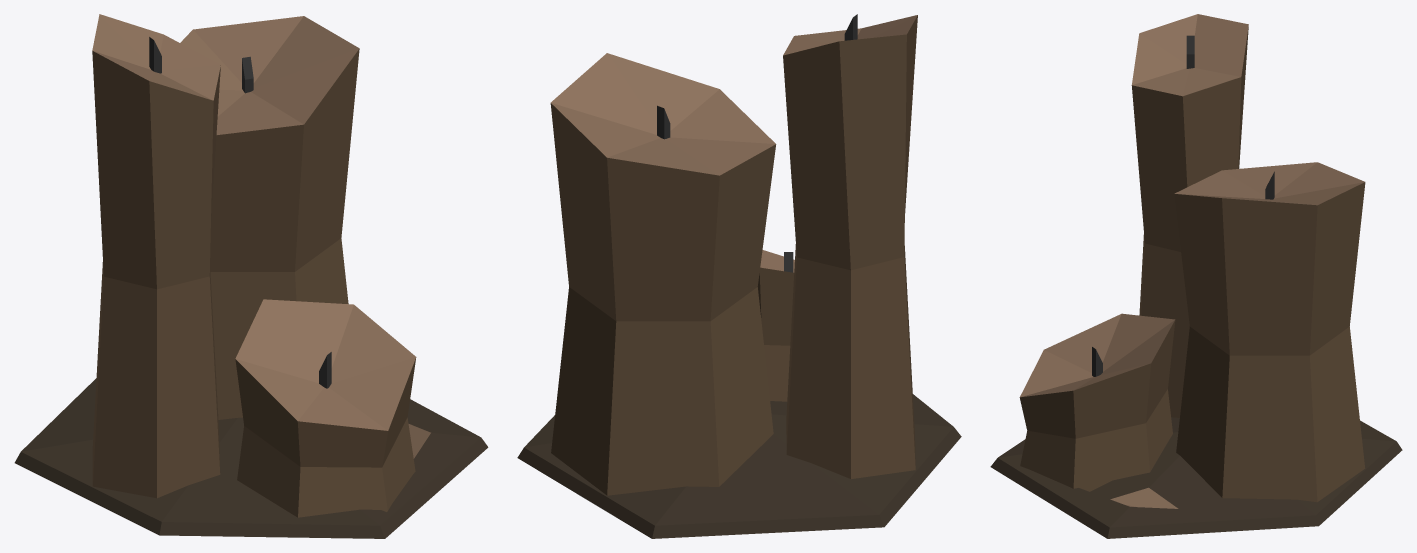
File: Candle_4_Brown.fbx
The picture shows the model from 3 angles, left to right: view 1: azimuth 30°, elevation 25°; view 2: azimuth 150°, elevation 25°; view 3: azimuth 270°, elevation 25°; orthographic projection. The views are drawn at different scales.
Parts seen in each view (by area): view 1: Candle_4_Brown_Part_1, Candle_4_Brown_Part_2, Candle_4_Brown_Part_3, Candle_4_Brown_Part_4; view 2: Candle_4_Brown_Part_1, Candle_4_Brown_Part_3, Candle_4_Brown_Part_2, Candle_4_Brown_Part_4; view 3: Candle_4_Brown_Part_1, Candle_4_Brown_Part_2, Candle_4_Brown_Part_3, Candle_4_Brown_Part_4.
Boxes of the visible parts, x1=… form: Candle_4_Brown_Part_1: x1=92, y1=49, x2=416, y2=517; Candle_4_Brown_Part_2: x1=92, y1=14, x2=430, y2=458; Candle_4_Brown_Part_3: x1=14, y1=378, x2=488, y2=538; Candle_4_Brown_Part_4: x1=149, y1=37, x2=331, y2=388; Candle_4_Brown_Part_1: x1=550, y1=15, x2=917, y2=495; Candle_4_Brown_Part_3: x1=517, y1=394, x2=961, y2=538; Candle_4_Brown_Part_2: x1=550, y1=15, x2=917, y2=272; Candle_4_Brown_Part_4: x1=657, y1=14, x2=857, y2=272; Candle_4_Brown_Part_1: x1=1019, y1=27, x2=1365, y2=502; Candle_4_Brown_Part_2: x1=1020, y1=14, x2=1364, y2=508; Candle_4_Brown_Part_3: x1=990, y1=417, x2=1402, y2=538; Candle_4_Brown_Part_4: x1=1092, y1=35, x2=1274, y2=376.
Size of the model in its own units: 23.17 by 26.7 by 25.86.
